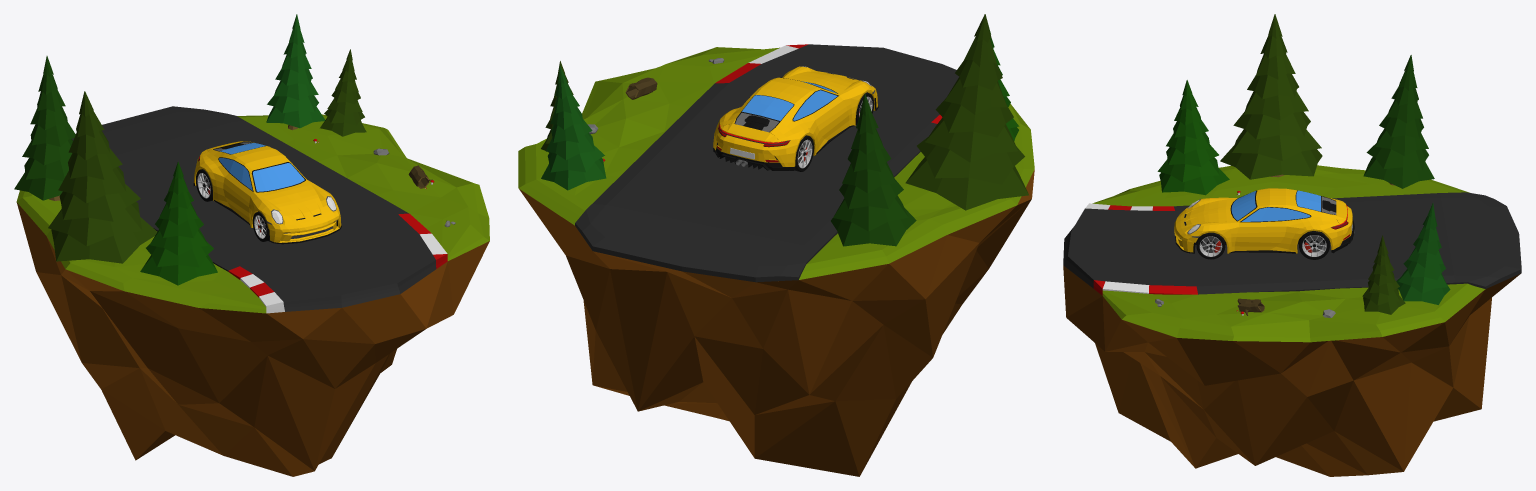
File: 911-with-ground.glb
3 views of the same model, side by side, from view 1: azimuth 30°, elevation 25°; view 2: azimuth 150°, elevation 25°; view 3: azimuth 270°, elevation 25° (orthographic). The views are drawn at different scales.
Visible parts, largest first — view 1: boden, main-body; view 2: boden, main-body, Spoiler; view 3: boden, main-body, RL, FL.
Boxes of the visible parts, x1=… form: boden: x1=14, y1=14, x2=489, y2=476; main-body: x1=193, y1=141, x2=341, y2=242; boden: x1=518, y1=14, x2=1034, y2=476; main-body: x1=713, y1=66, x2=877, y2=170; Spoiler: x1=720, y1=123, x2=778, y2=142; boden: x1=1063, y1=14, x2=1521, y2=476; main-body: x1=1174, y1=188, x2=1353, y2=253; RL: x1=1299, y1=231, x2=1329, y2=259; FL: x1=1196, y1=232, x2=1225, y2=259.
Size of the model in its own units: 13.61 by 13.19 by 14.22.
